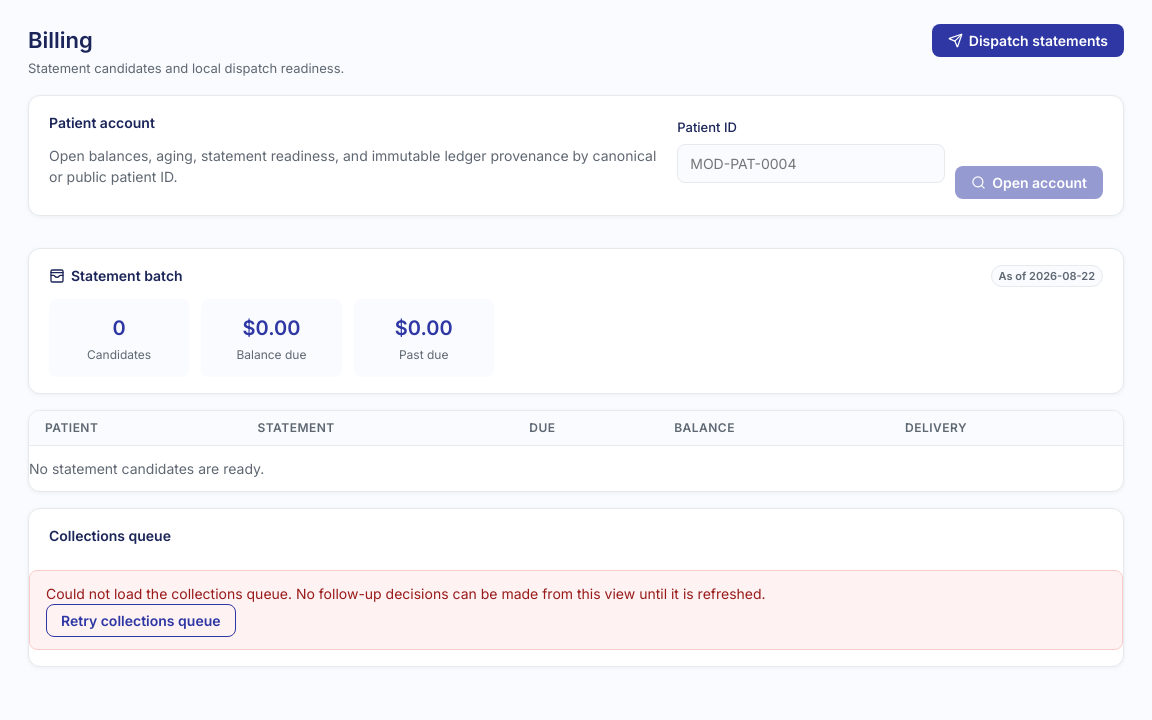
Test: BillingWorkspace collections queue › announces a collections failure and lets the user retry rather than hiding the queue
Expected: the message shows "Could not load the collections queue", [46,585,766,602]
Click the button "Retry collections queue" at (141, 620), box [46,604,236,637]
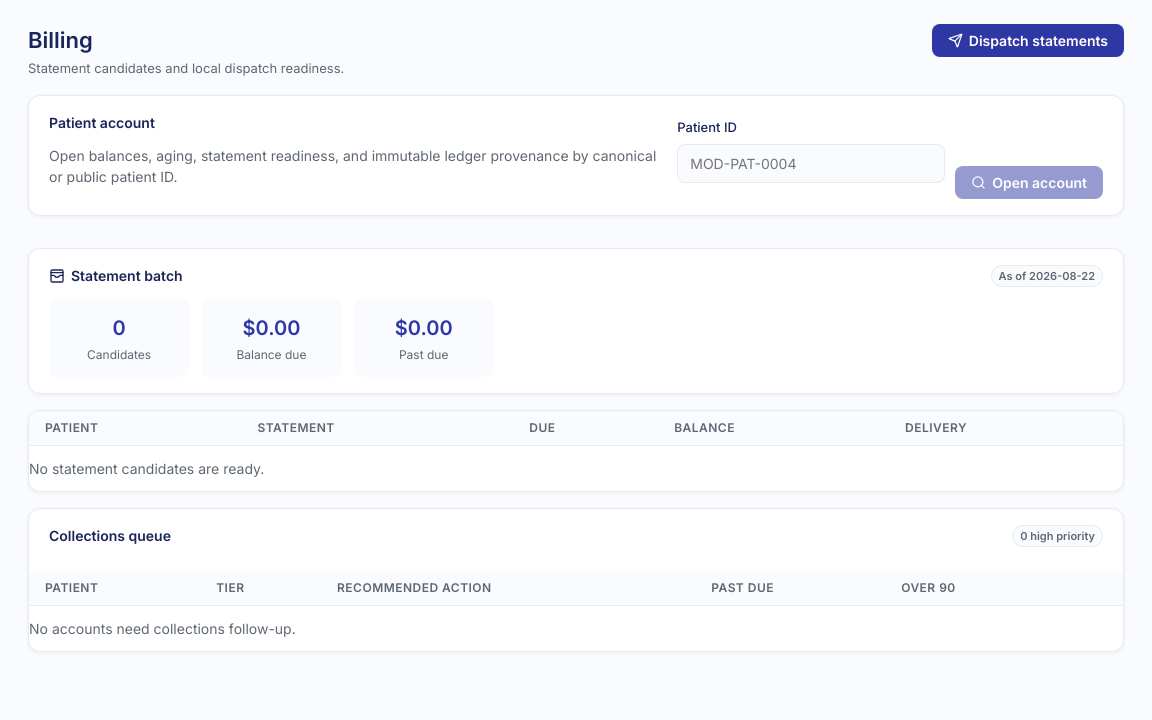
Expected: the message is gone
Expected: the text "No accounts need collections follow-up." is shown, [29,620,296,637]
